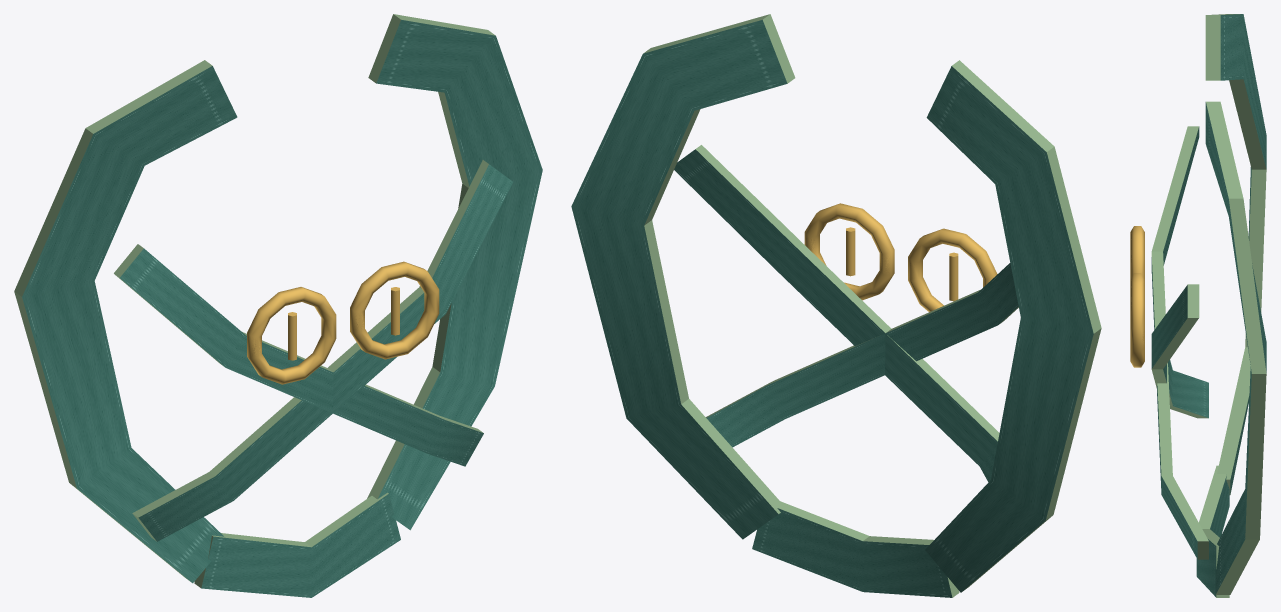
The model's file is moa_harness.obj.
3 renders of one model, left to right at view 1: azimuth 30°, elevation 25°; view 2: azimuth 150°, elevation 25°; view 3: azimuth 270°, elevation 25°, orthographic. The views are drawn at different scales.
Parts seen in each view (by area): view 1: A_ChestYoke-1.001_moa_harness_leather, A_ChestYoke1.001_moa_harness_leather, B_CrossBrace1.001_moa_harness_leather, B_CrossBrace-1.001_moa_harness_leather, C_LowerGirth.001_moa_harness_leather, A_ChestYoke-1.001_moa_harness_cut_edges, D_BuckleFrame-1.001_moa_harness_buckles, D_BuckleFrame1.001_moa_harness_buckles, A_ChestYoke1.001_moa_harness_cut_edges, B_CrossBrace1.001_moa_harness_cut_edges, C_LowerGirth.001_moa_harness_cut_edges, B_CrossBrace-1.001_moa_harness_cut_edges; view 2: A_ChestYoke1.001_moa_harness_leather, A_ChestYoke-1.001_moa_harness_leather, B_CrossBrace1.001_moa_harness_leather, B_CrossBrace-1.001_moa_harness_leather, C_LowerGirth.001_moa_harness_leather, A_ChestYoke1.001_moa_harness_cut_edges, A_ChestYoke-1.001_moa_harness_cut_edges, B_CrossBrace1.001_moa_harness_cut_edges, D_BuckleFrame1.001_moa_harness_buckles, D_BuckleFrame-1.001_moa_harness_buckles, C_LowerGirth.001_moa_harness_cut_edges; view 3: A_ChestYoke1.001_moa_harness_cut_edges, A_ChestYoke-1.001_moa_harness_cut_edges, B_CrossBrace-1.001_moa_harness_cut_edges, A_ChestYoke1.001_moa_harness_leather, A_ChestYoke-1.001_moa_harness_leather, B_CrossBrace1.001_moa_harness_leather, B_CrossBrace-1.001_moa_harness_leather, B_CrossBrace1.001_moa_harness_cut_edges, D_BuckleFrame1.001_moa_harness_buckles, C_LowerGirth.001_moa_harness_leather, C_LowerGirth.001_moa_harness_cut_edges, D_BuckleFrame-1.001_moa_harness_buckles.
Part boxes in pixels (left/top/right/bottom): A_ChestYoke-1.001_moa_harness_leather: left=22, top=66, right=237, bottom=583; A_ChestYoke1.001_moa_harness_leather: left=376, top=19, right=542, bottom=530; B_CrossBrace1.001_moa_harness_leather: left=138, top=164, right=512, bottom=541; B_CrossBrace-1.001_moa_harness_leather: left=120, top=248, right=483, bottom=466; C_LowerGirth.001_moa_harness_leather: left=201, top=494, right=400, bottom=597; A_ChestYoke-1.001_moa_harness_cut_edges: left=14, top=60, right=212, bottom=582; D_BuckleFrame-1.001_moa_harness_buckles: left=247, top=287, right=336, bottom=384; D_BuckleFrame1.001_moa_harness_buckles: left=350, top=261, right=439, bottom=359; A_ChestYoke1.001_moa_harness_cut_edges: left=367, top=14, right=495, bottom=499; B_CrossBrace1.001_moa_harness_cut_edges: left=132, top=160, right=488, bottom=541; C_LowerGirth.001_moa_harness_cut_edges: left=194, top=492, right=388, bottom=587; B_CrossBrace-1.001_moa_harness_cut_edges: left=114, top=244, right=482, bottom=432; A_ChestYoke1.001_moa_harness_leather: left=571, top=20, right=787, bottom=539; A_ChestYoke-1.001_moa_harness_leather: left=925, top=66, right=1093, bottom=592; B_CrossBrace1.001_moa_harness_leather: left=674, top=149, right=997, bottom=482; B_CrossBrace-1.001_moa_harness_leather: left=706, top=263, right=1018, bottom=447; C_LowerGirth.001_moa_harness_leather: left=752, top=508, right=952, bottom=597; A_ChestYoke1.001_moa_harness_cut_edges: left=643, top=14, right=795, bottom=513; A_ChestYoke-1.001_moa_harness_cut_edges: left=952, top=60, right=1101, bottom=590; B_CrossBrace1.001_moa_harness_cut_edges: left=695, top=145, right=999, bottom=441; D_BuckleFrame1.001_moa_harness_buckles: left=804, top=203, right=894, bottom=300; D_BuckleFrame-1.001_moa_harness_buckles: left=908, top=228, right=997, bottom=311; C_LowerGirth.001_moa_harness_cut_edges: left=777, top=501, right=959, bottom=597; A_ChestYoke1.001_moa_harness_cut_edges: left=1206, top=101, right=1266, bottom=594; A_ChestYoke-1.001_moa_harness_cut_edges: left=1205, top=14, right=1266, bottom=494; B_CrossBrace-1.001_moa_harness_cut_edges: left=1151, top=126, right=1208, bottom=559; A_ChestYoke1.001_moa_harness_leather: left=1205, top=102, right=1266, bottom=594; A_ChestYoke-1.001_moa_harness_leather: left=1220, top=14, right=1266, bottom=494; B_CrossBrace1.001_moa_harness_leather: left=1151, top=285, right=1208, bottom=418; B_CrossBrace-1.001_moa_harness_leather: left=1151, top=126, right=1199, bottom=559; B_CrossBrace1.001_moa_harness_cut_edges: left=1151, top=284, right=1207, bottom=418; D_BuckleFrame1.001_moa_harness_buckles: left=1130, top=273, right=1144, bottom=367; C_LowerGirth.001_moa_harness_leather: left=1196, top=476, right=1229, bottom=597; C_LowerGirth.001_moa_harness_cut_edges: left=1199, top=465, right=1229, bottom=597; D_BuckleFrame-1.001_moa_harness_buckles: left=1130, top=226, right=1144, bottom=278.
Size of the model in its own units: 1.72 by 1.74 by 0.4145.
